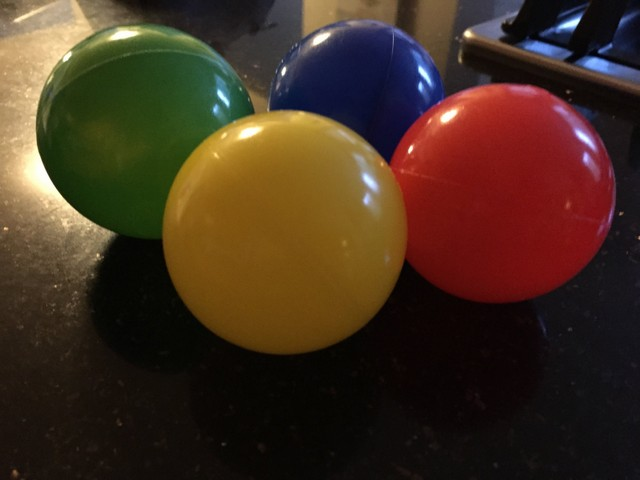Ball: (36, 26, 251, 243)
